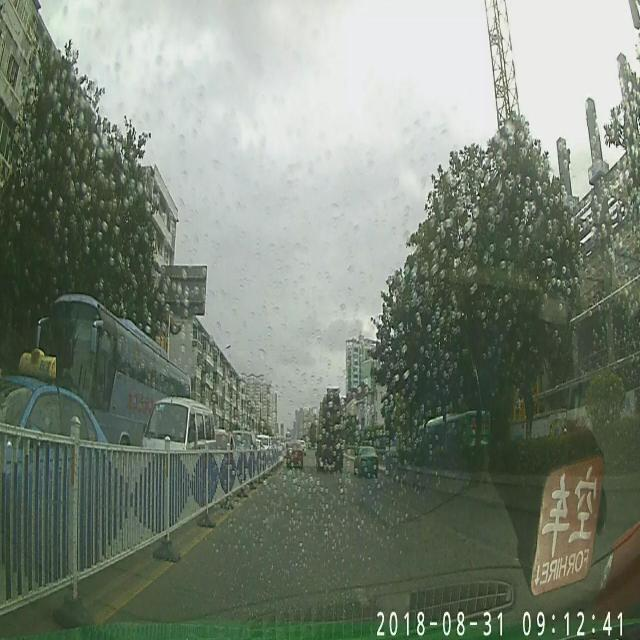car: (0, 352, 123, 563), (140, 392, 214, 489), (354, 446, 379, 478), (212, 428, 236, 461), (234, 432, 254, 462), (286, 442, 306, 466), (258, 435, 274, 457)
